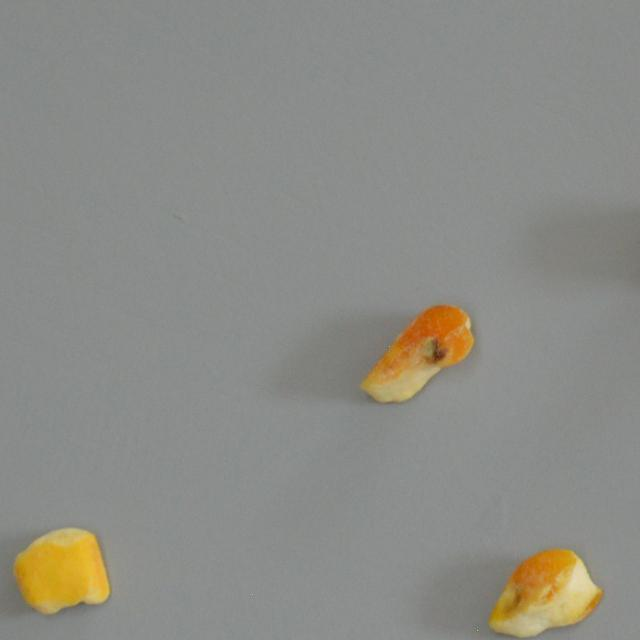dañado: (358, 300, 474, 410), (7, 516, 120, 624), (484, 536, 597, 640)
